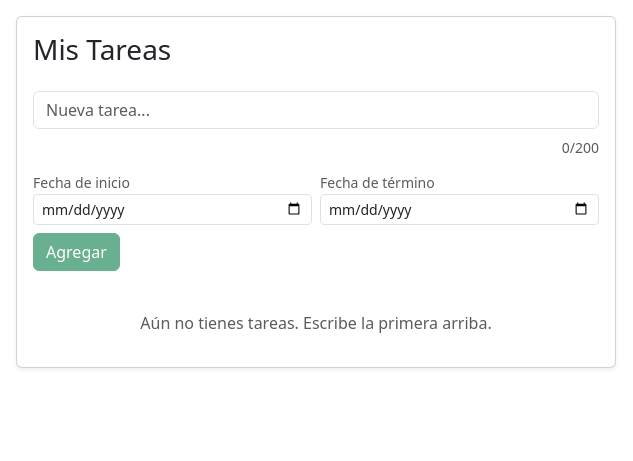
it: shows network failures on create and keeps the draft for retry
expect the text "Aún no tienes tareas. Escribe la primera arriba." is shown: met, box [140,312,492,334]
Type "Pendiente" into the field with placeholder "Nueva tarea...".
click(316, 110); type("Pendiente")  # box [33,91,599,129]
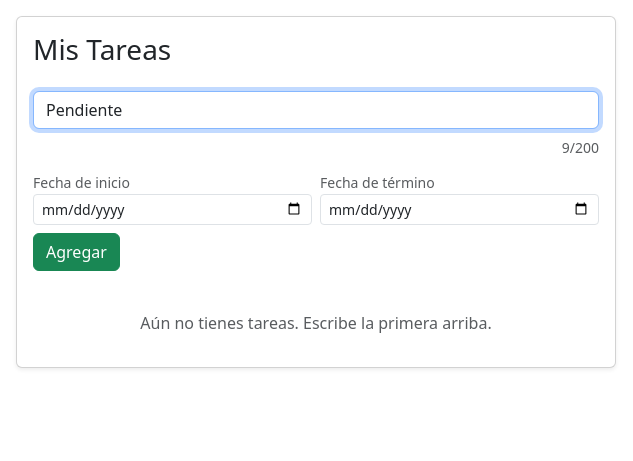
Click the button "Agregar".
click(76, 252)  # box [33,233,120,271]
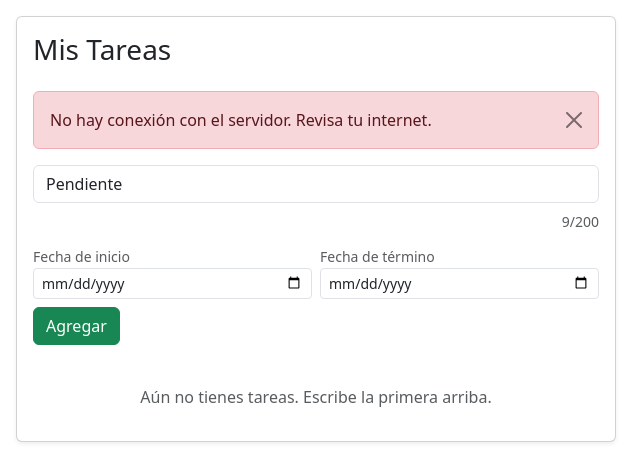
expect the button "Agregar" is enabled: met, box [33,307,120,345]
expect the text "No hay conexión con el servidor. Revisa tu internet." is shown: met, box [33,91,599,149]
